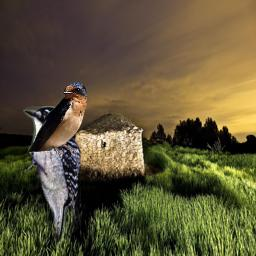Swallow: (27, 82, 87, 159)
Woodpecker: (23, 106, 81, 241)
